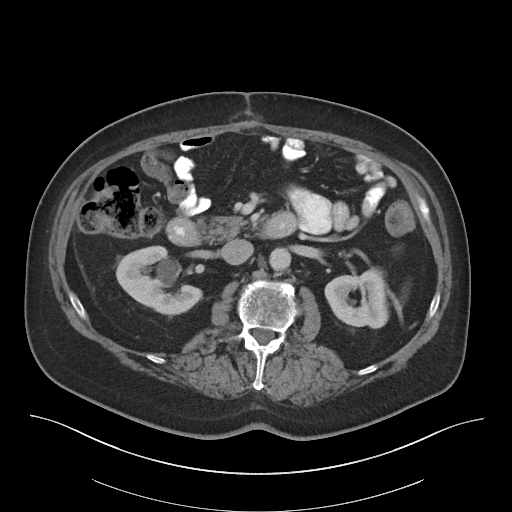Lesion: (151, 255, 181, 290)
